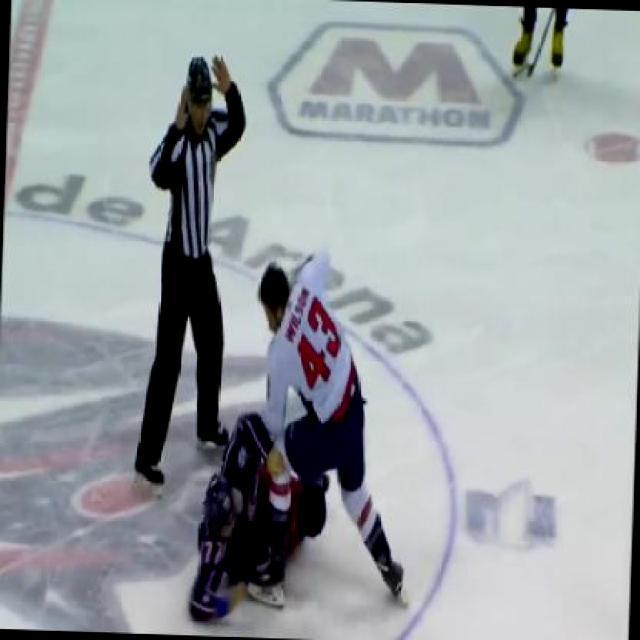fight: (192, 237, 418, 620)
